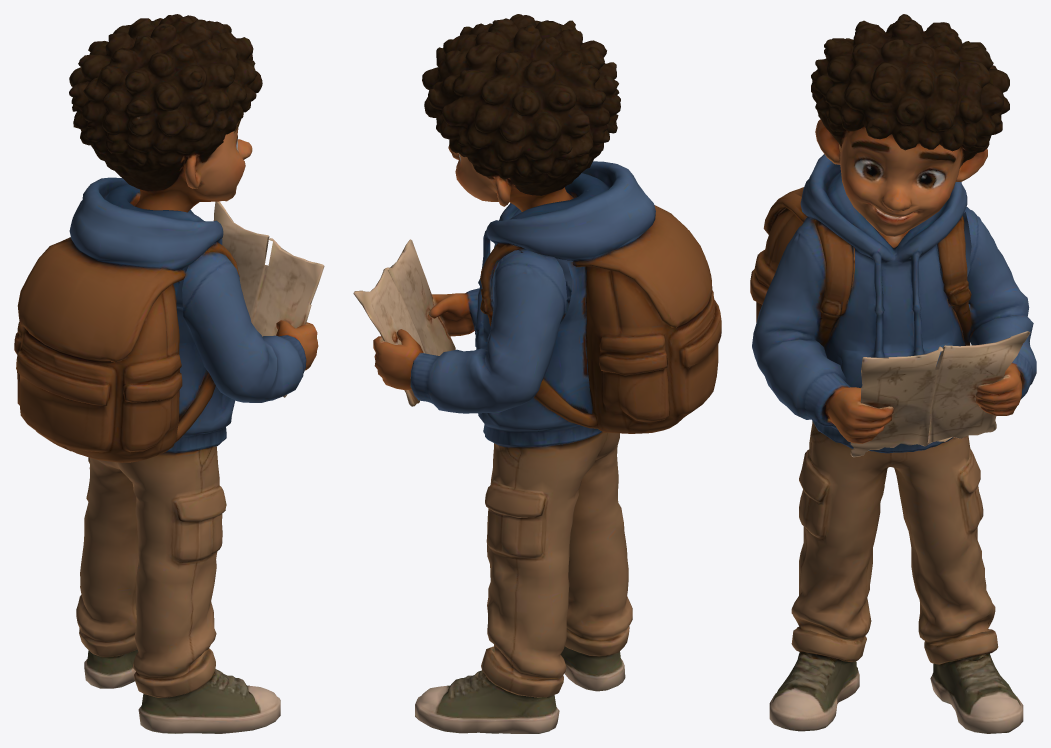
Rendered from detective-curly-boy.glb.
3 renders of one model, left to right at view 1: azimuth 30°, elevation 25°; view 2: azimuth 150°, elevation 25°; view 3: azimuth 270°, elevation 25°, orthographic. The views are drawn at different scales.
Parts seen in each view (by area): view 1: tripo_node_13f6c342-7258-4834-b439-bcd7c01101fb; view 2: tripo_node_13f6c342-7258-4834-b439-bcd7c01101fb; view 3: tripo_node_13f6c342-7258-4834-b439-bcd7c01101fb.
Part boxes in pixels (x1,y1,x2,y2): tripo_node_13f6c342-7258-4834-b439-bcd7c01101fb: [14, 14, 324, 733]; tripo_node_13f6c342-7258-4834-b439-bcd7c01101fb: [353, 14, 721, 733]; tripo_node_13f6c342-7258-4834-b439-bcd7c01101fb: [750, 14, 1036, 733].
Size of the model in its own units: 0.4638 by 1 by 0.3796.
Materials: 1 (1 with a texture image).
